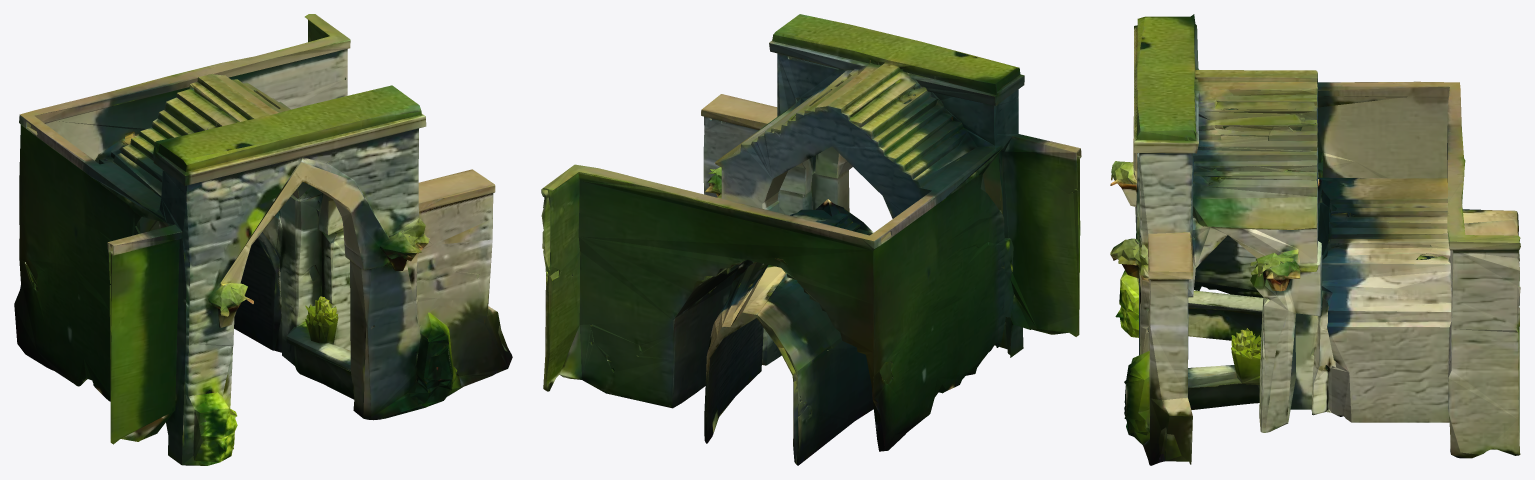
The model's file is landmark_drowned_bell_tower.glb.
3 views of the same model, side by side, from view 1: azimuth 30°, elevation 25°; view 2: azimuth 150°, elevation 25°; view 3: azimuth 270°, elevation 25° (orthographic). The views are drawn at different scales.
Parts seen in each view (by area): view 1: geometry_0; view 2: geometry_0; view 3: geometry_0.
Boxes of the visible parts, <box> form: geometry_0: <box>14,14,512,465</box>; geometry_0: <box>541,14,1081,465</box>; geometry_0: <box>1110,14,1520,465</box>.
Bounding box in the file's own units: 0.9986 × 0.7142 × 0.8758.
Materials: 1 (1 with a texture image).
